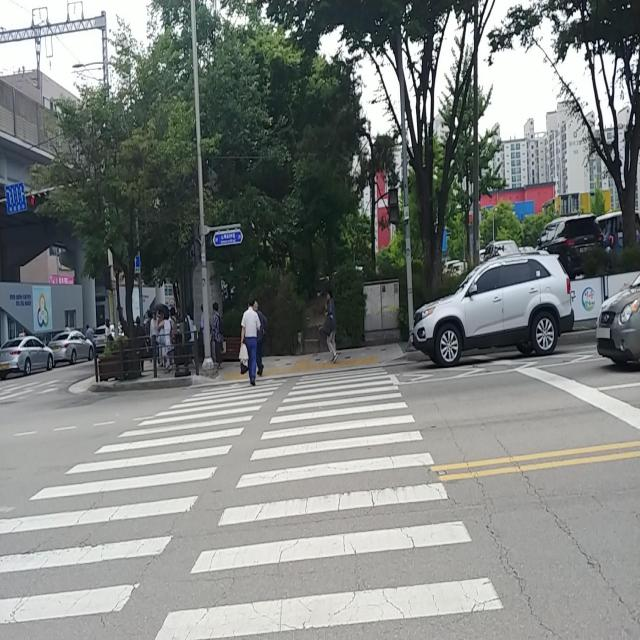횡단보도: (0, 365, 505, 639)
